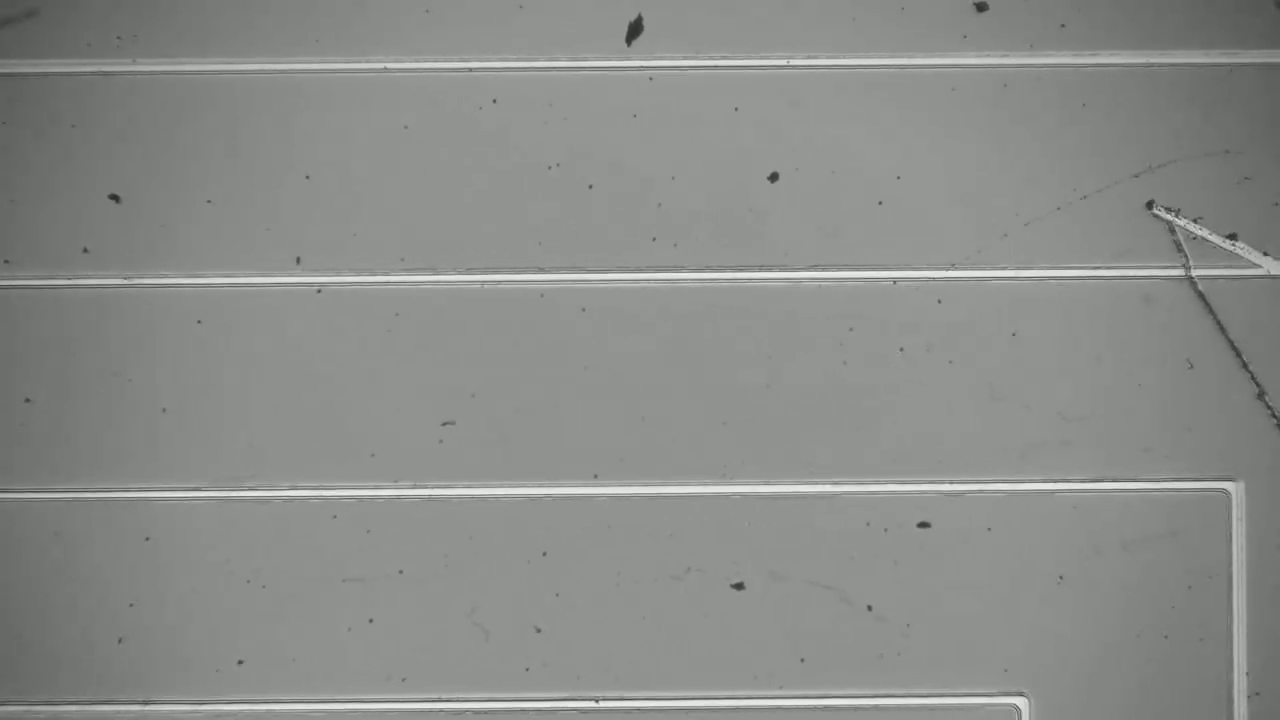scratch: (1162, 226, 1280, 430), (1019, 137, 1234, 218), (1149, 197, 1280, 272)
